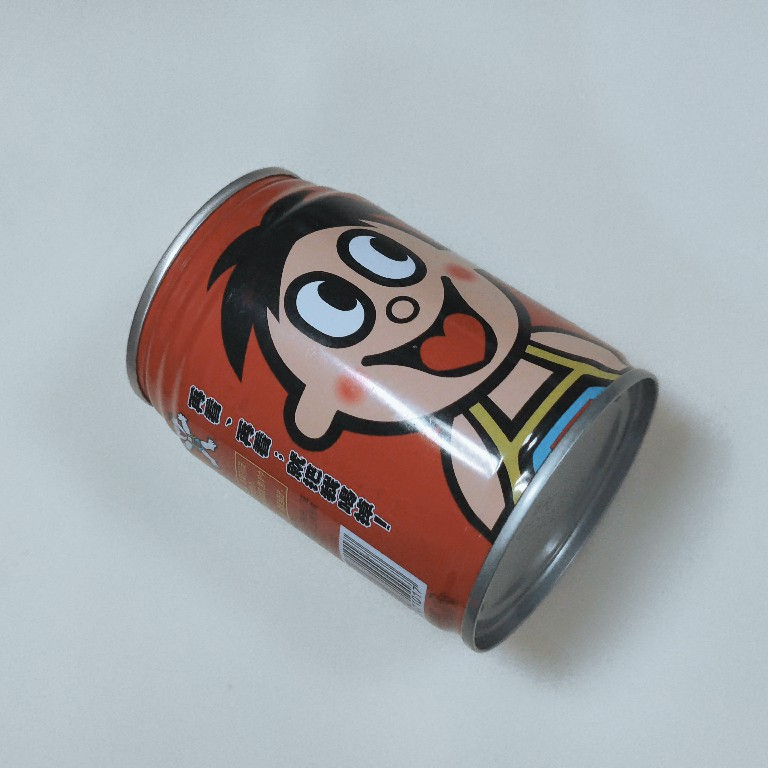can: (121, 164, 662, 659)
